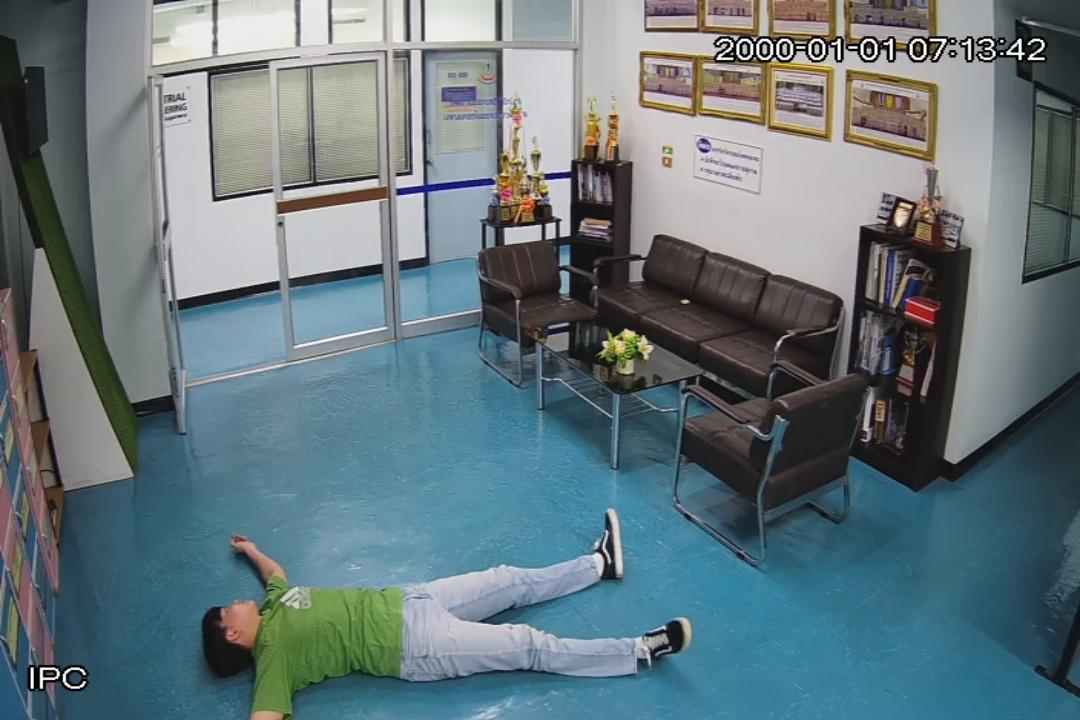fall: (202, 512, 704, 720)
